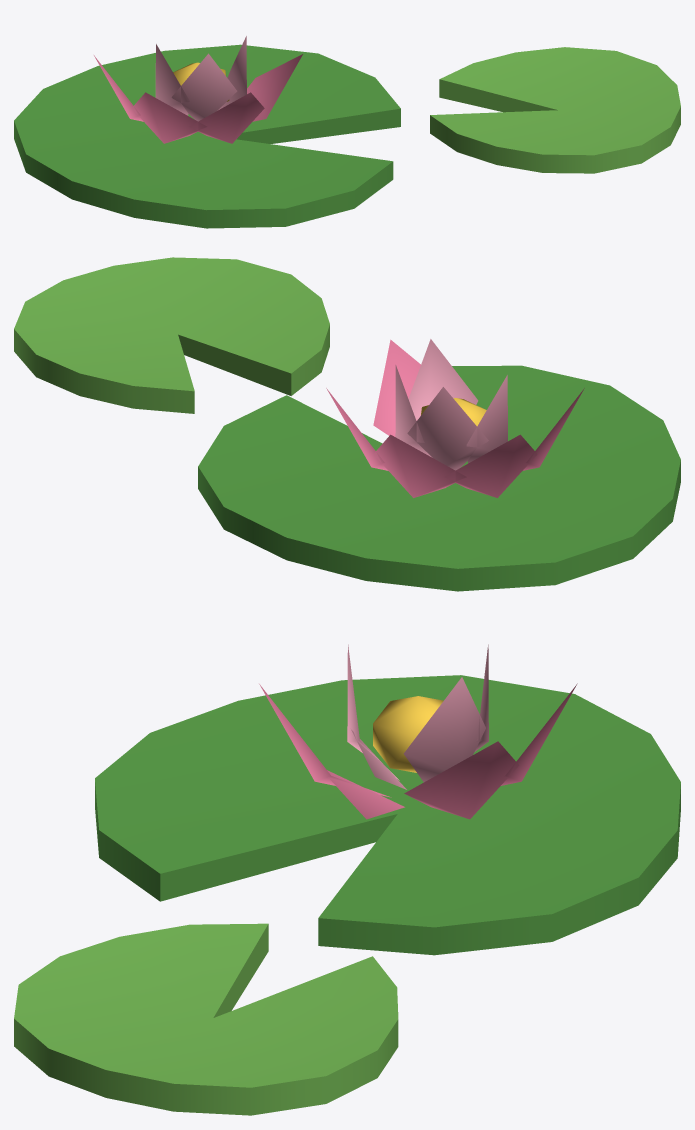
The model's file is lilypad.glb.
3 views of the same model, one above another, from view 1: azimuth 30°, elevation 25°; view 2: azimuth 150°, elevation 25°; view 3: azimuth 270°, elevation 25° (orthographic). The views are drawn at different scales.
Parts seen in each view (by area): view 1: PadLarge, PadSmall, LotusOuter, LotusInner; view 2: PadLarge, PadSmall, LotusOuter, LotusInner; view 3: PadLarge, PadSmall, LotusOuter, LotusInner, LotusCore.
Part boxes in pixels (x1,y1,x2,y2): PadLarge: [14, 44, 400, 228]; PadSmall: [430, 47, 680, 173]; LotusOuter: [94, 54, 302, 143]; LotusInner: [155, 36, 246, 121]; PadLarge: [198, 365, 680, 591]; PadSmall: [14, 257, 329, 413]; LotusOuter: [326, 339, 584, 497]; LotusInner: [395, 339, 507, 470]; PadLarge: [95, 675, 680, 955]; PadSmall: [14, 923, 398, 1115]; LotusOuter: [259, 683, 577, 819]; LotusInner: [347, 644, 488, 789]; LotusCore: [373, 696, 443, 772].
Size of the model in its own units: 0.9609 by 0.1894 by 0.6506.
